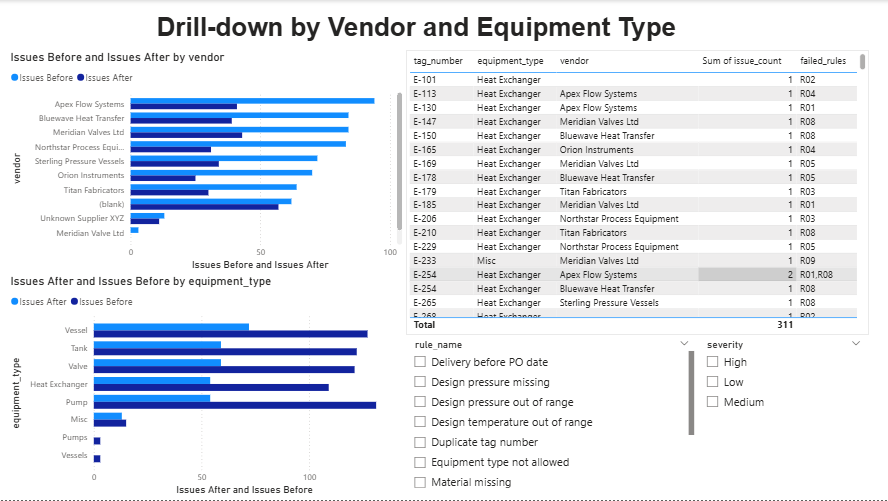

The page's visual inventory and layout, read from the dashboard file:
{"tool":"powerbi","page":{"name":"Page 2","canvas":[1280,720],"ordinal":1},"visuals":[{"type":"clusteredBarChart","fields":{"Category":["issues.vendor"],"Y":["issues.Failed Before","issues.Issues After"]},"box":[10.1,72.2,574.5,322.5],"z":0},{"type":"clusteredBarChart","fields":{"Category":["issues.equipment_type"],"Y":["issues.Issues After","issues.Issues Before"]},"box":[10.1,394.8,574.5,324.2],"z":1000},{"type":"tableEx","fields":{"Values":["equipment_quarantine.tag_number","equipment_quarantine.equipment_type","equipment_quarantine.vendor","Sum(equipment_quarantine.issue_count)","equipment_quarantine.failed_rules"]},"box":[584.6,72.2,666.9,409.9],"z":2000},{"type":"slicer","fields":{"Values":["issues.rule_name"]},"box":[584.6,482.1,419.9,225.1],"z":3000},{"type":"slicer","fields":{"Values":["issues.severity"]},"box":[1004.5,482.1,246.9,225.1],"z":4000},{"type":"textbox","box":[1070,13.4,210,30.2],"z":5000},{"type":"textbox","box":[100.8,13.4,828.1,58.8],"z":6000}]}

Visuals, with their boxes in screenshot pixels (x1, y1, x2, y2), scaled from the page's 1280x720 canvas onto the 888x501 screenshot:
clusteredBarChart - issues.vendor x issues.Failed Before: [left=7, top=50, right=406, bottom=275]
clusteredBarChart - issues.equipment_type x issues.Issues After: [left=7, top=275, right=406, bottom=500]
tableEx - equipment_quarantine.tag_number x equipment_quarantine.equipment_type: [left=406, top=50, right=868, bottom=335]
slicer - issues.rule_name: [left=406, top=335, right=697, bottom=492]
slicer - issues.severity: [left=697, top=335, right=868, bottom=492]
textbox: [left=742, top=9, right=887, bottom=30]
textbox: [left=70, top=9, right=644, bottom=50]
